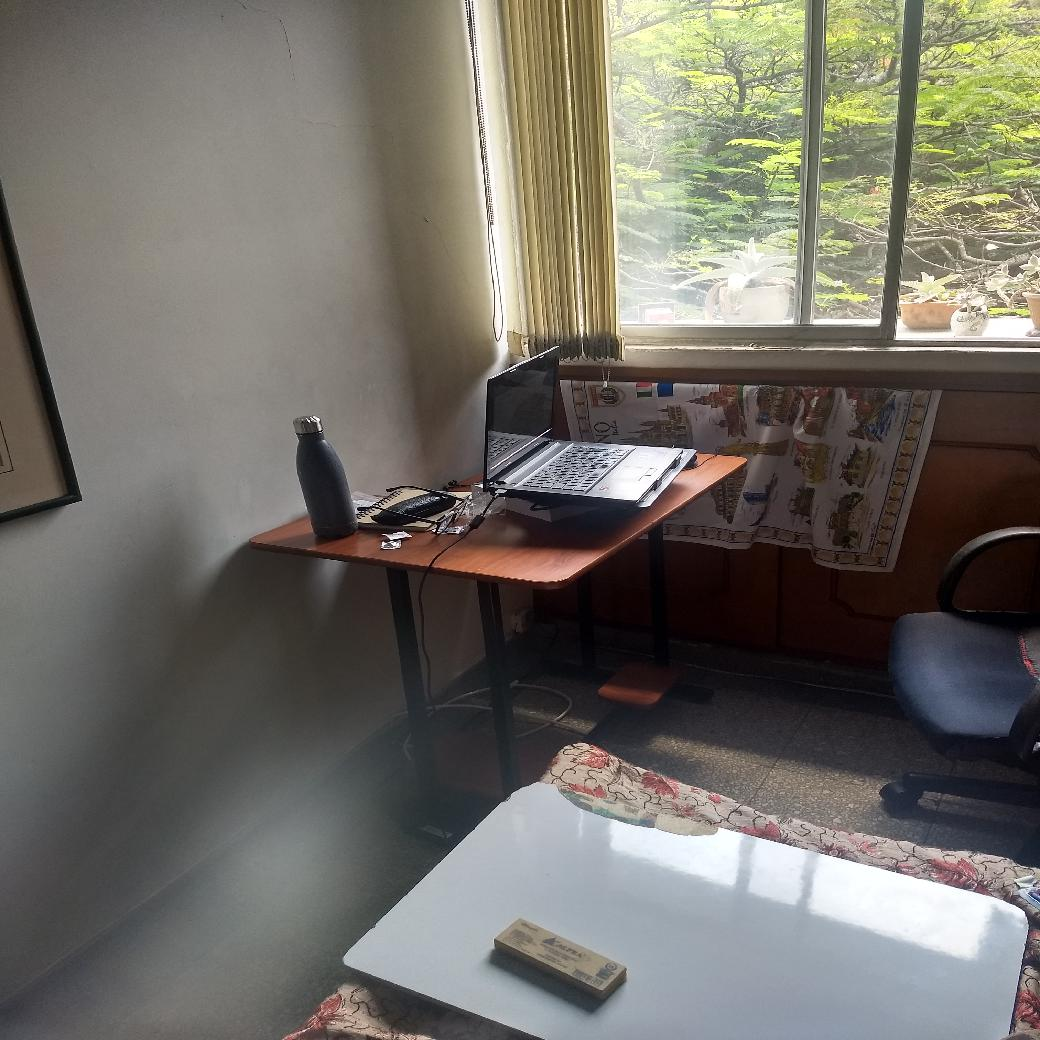laptop: (485, 348, 682, 507)
